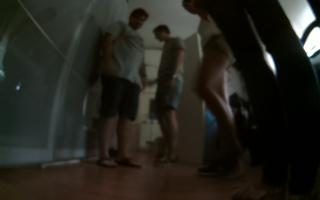person: (200, 1, 320, 198), (180, 1, 244, 178), (91, 5, 148, 172), (149, 22, 188, 173)
